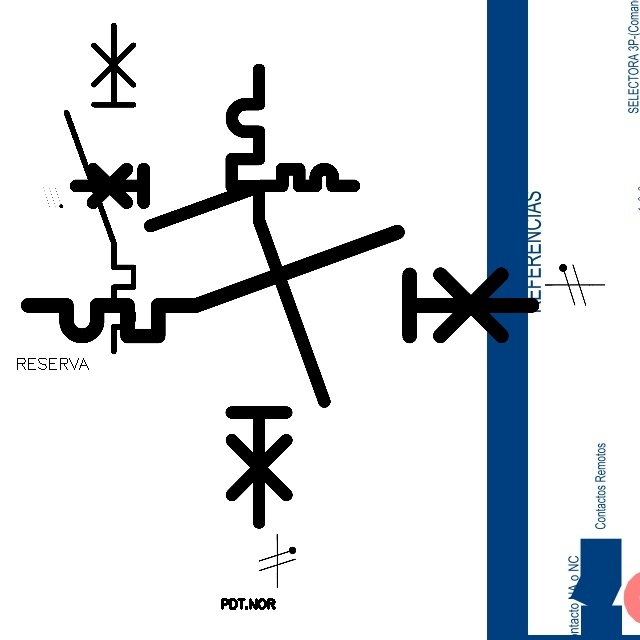interruptor_termomagnetico: (15, 219, 545, 349), (220, 58, 336, 534), (58, 17, 142, 360), (69, 162, 361, 233)
